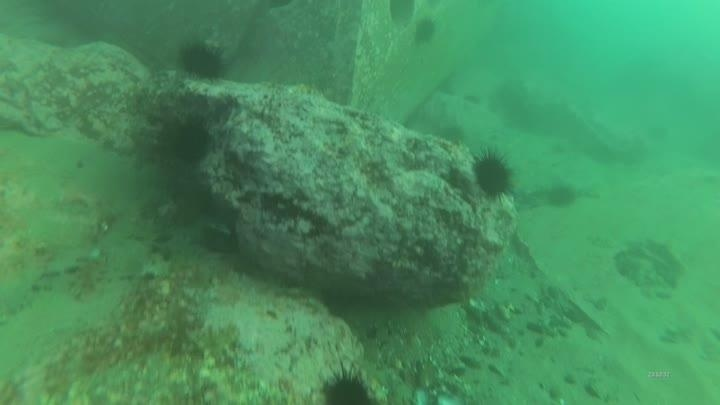echinus: (470, 148, 517, 202), (166, 115, 214, 166), (316, 365, 376, 404), (177, 39, 229, 83), (543, 182, 579, 212), (411, 16, 439, 47), (436, 122, 467, 148), (386, 1, 418, 26)
holothurian: (182, 319, 243, 364)
